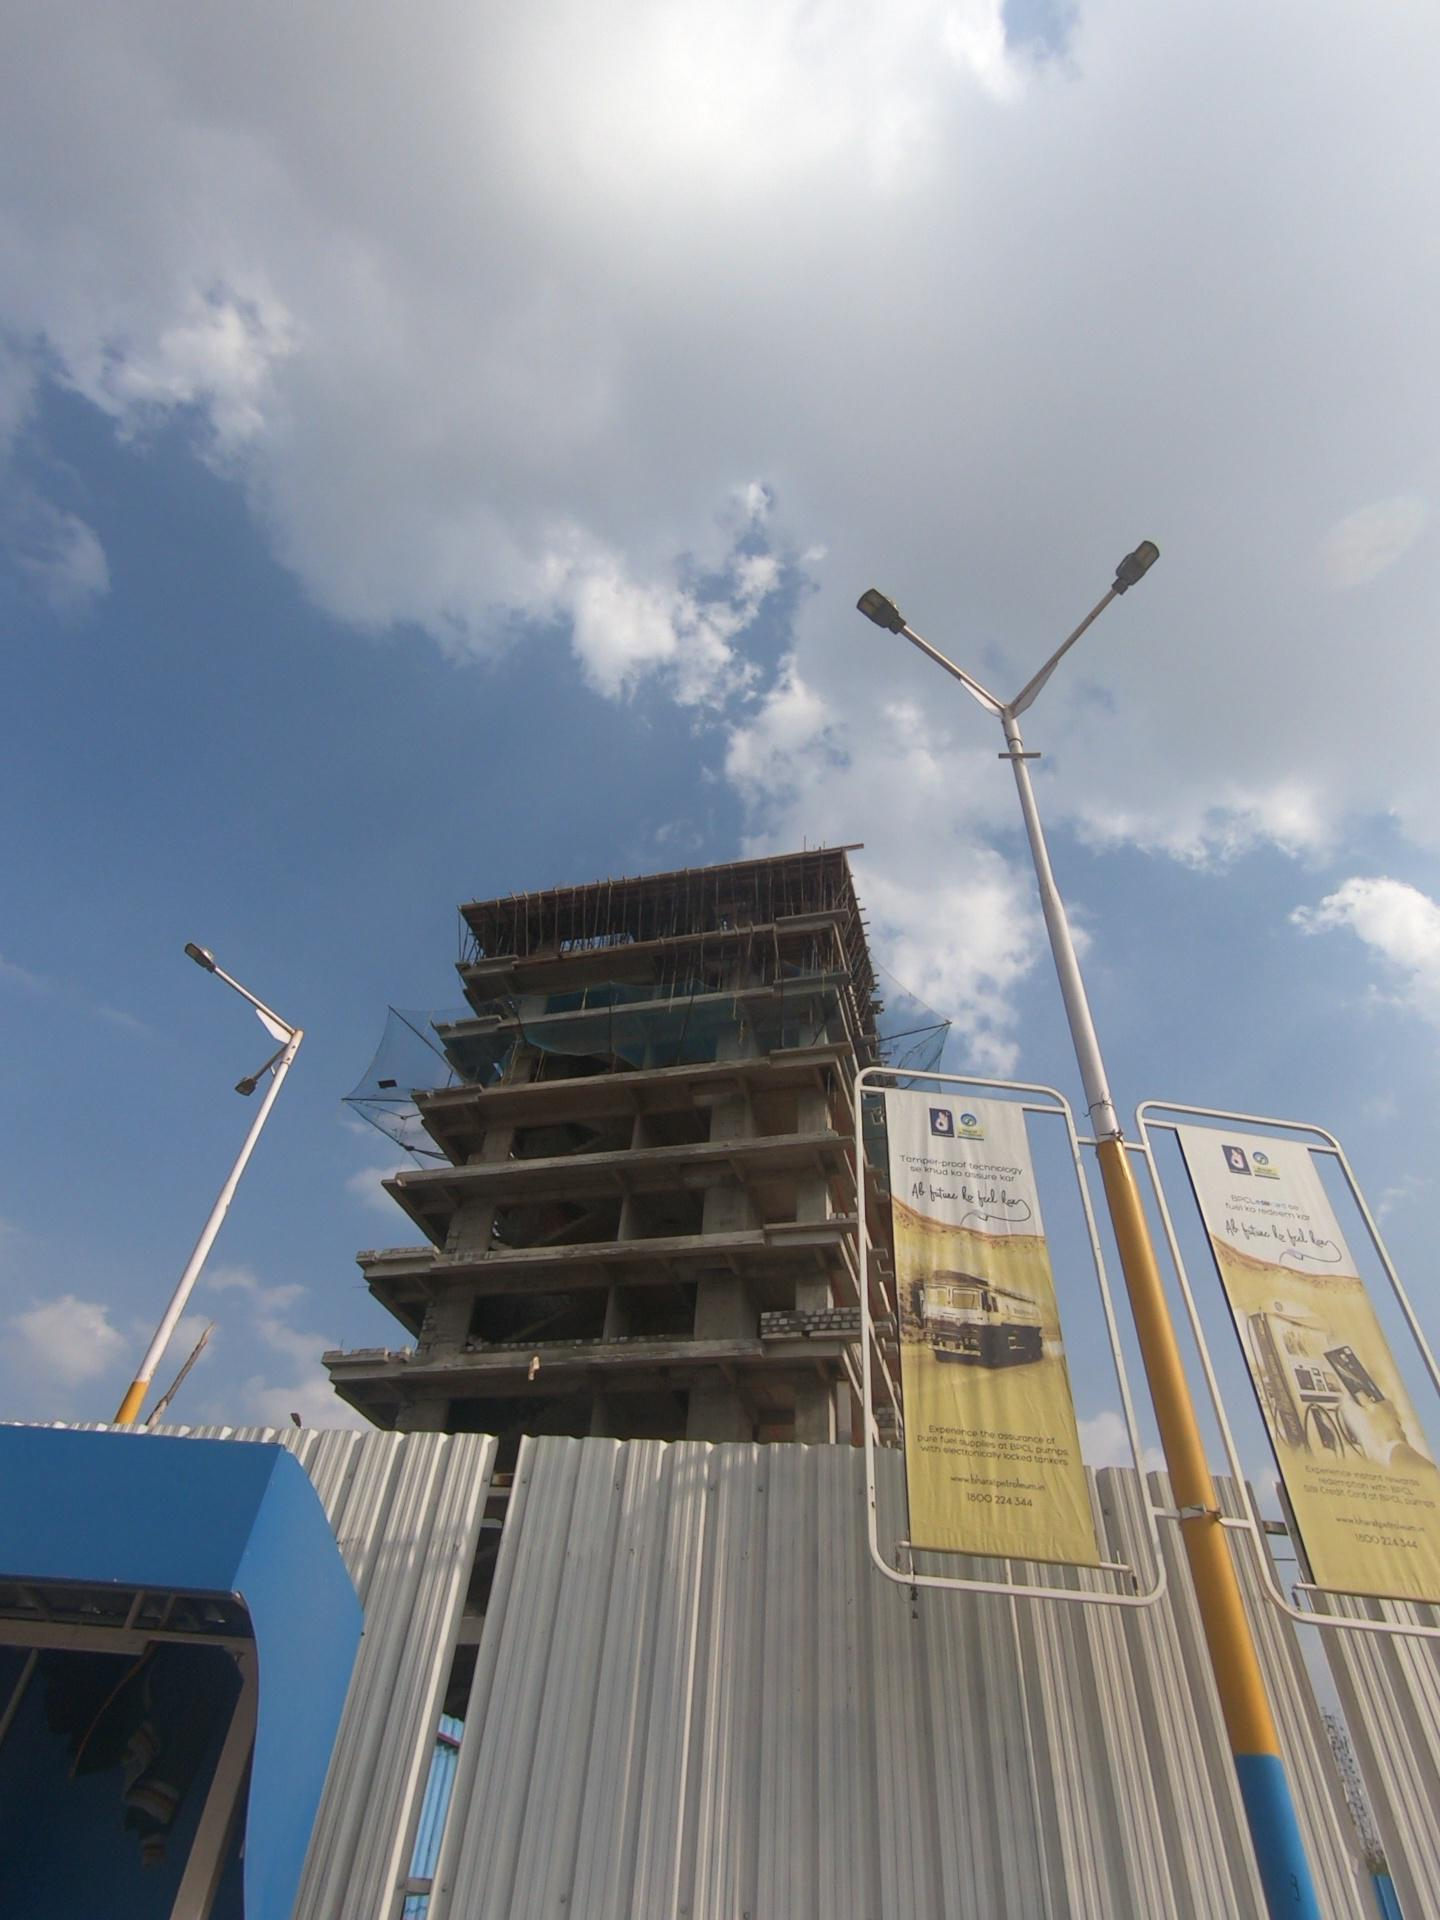off: (820, 531, 1248, 715), (145, 851, 375, 1111)
